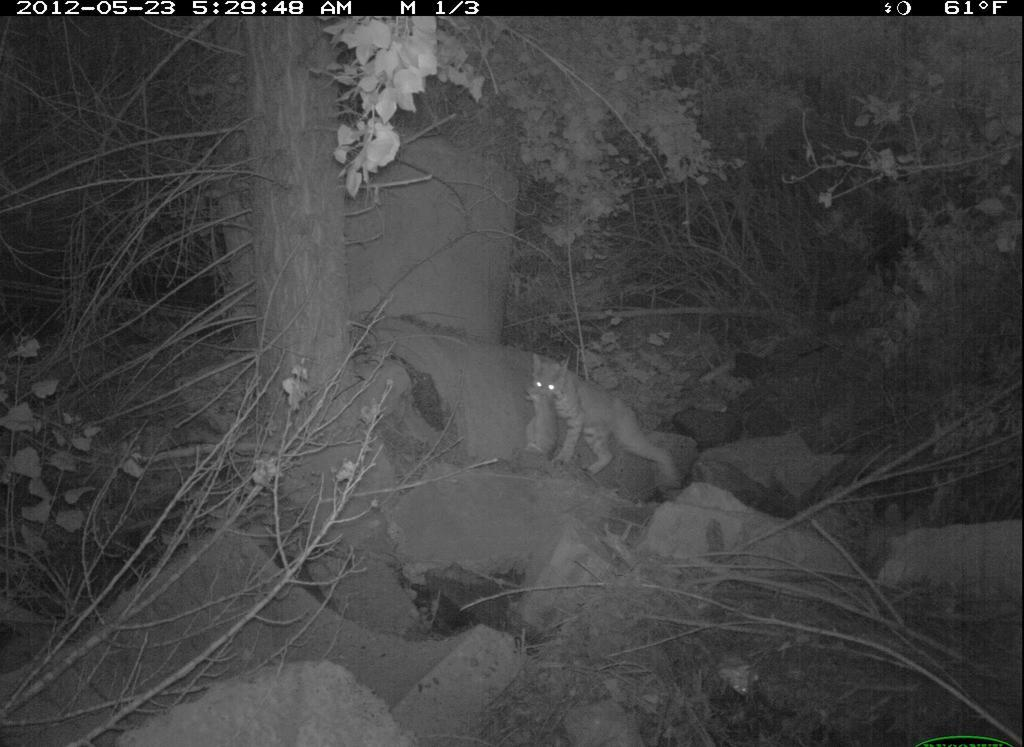bobcat: (525, 349, 685, 502)
